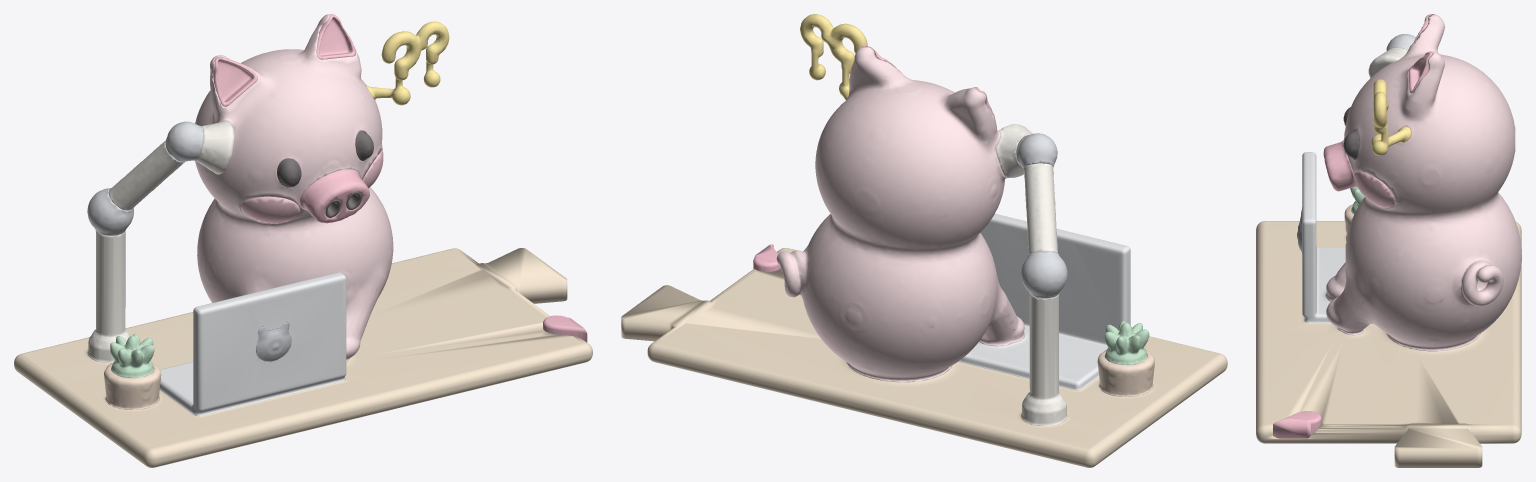
File: pair-pig.glb
3 views of the same model, side by side, from view 1: azimuth 30°, elevation 25°; view 2: azimuth 150°, elevation 25°; view 3: azimuth 270°, elevation 25° (orthographic). The views are drawn at different scales.
Visible parts, largest first — view 1: 12_wood, 08_pink, 09_laptop, 10_lampw, 03_snout, 05_yellow, 07_metal, 11_pot, 04_blush, 06_leaf, 01_black, 02_logo (+1 smaller); view 2: 08_pink, 12_wood, 09_laptop, 10_lampw, 07_metal, 05_yellow, 11_pot, 06_leaf; view 3: 08_pink, 12_wood, 09_laptop, 03_snout, 05_yellow, 13_heart, 04_blush, 10_lampw, 01_black, 07_metal.
Boxes of the visible parts, <box> form: 12_wood: <box>14,248,592,467</box>; 08_pink: <box>195,14,393,362</box>; 09_laptop: <box>159,272,346,415</box>; 10_lampw: <box>87,120,234,363</box>; 03_snout: <box>213,14,369,223</box>; 05_yellow: <box>366,21,449,105</box>; 07_metal: <box>87,121,203,235</box>; 11_pot: <box>104,362,161,409</box>; 04_blush: <box>240,149,383,223</box>; 06_leaf: <box>110,334,154,377</box>; 01_black: <box>277,130,373,217</box>; 02_logo: <box>256,321,291,361</box>; 08_pink: <box>776,46,1024,382</box>; 12_wood: <box>621,248,1227,467</box>; 09_laptop: <box>958,213,1130,390</box>; 10_lampw: <box>995,124,1068,425</box>; 07_metal: <box>1016,133,1067,298</box>; 05_yellow: <box>800,14,867,99</box>; 11_pot: <box>1097,349,1154,396</box>; 06_leaf: <box>1104,321,1149,364</box>; 08_pink: <box>1325,14,1521,351</box>; 12_wood: <box>1256,221,1521,467</box>; 09_laptop: <box>1302,152,1345,322</box>; 03_snout: <box>1323,14,1432,191</box>; 05_yellow: <box>1371,79,1411,155</box>; 13_heart: <box>1273,411,1321,438</box>; 04_blush: <box>1354,171,1394,207</box>; 10_lampw: <box>1368,47,1407,78</box>; 01_black: <box>1343,107,1359,159</box>; 07_metal: <box>1386,34,1415,50</box>.
Size of the model in its own units: 0.6585 by 0.4144 by 0.3194.
2 materials, 2 textured.
